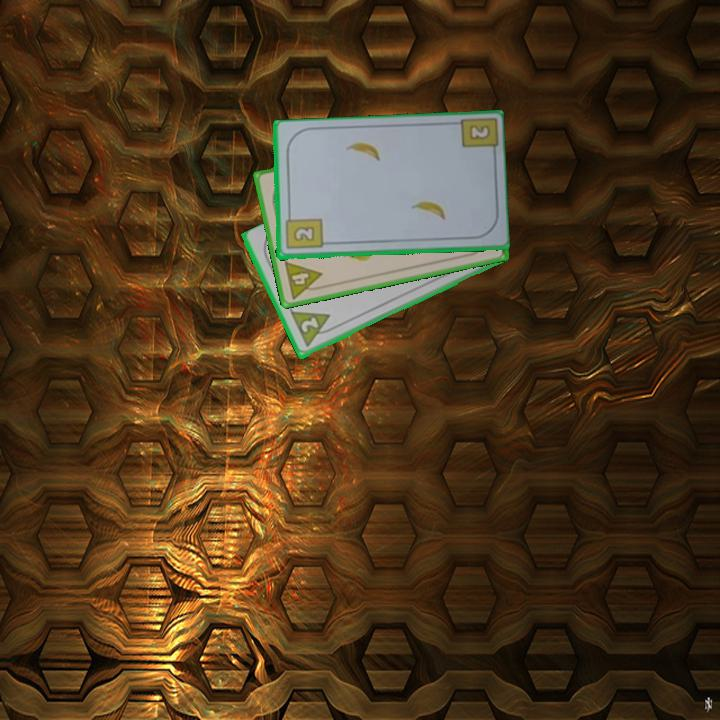2b: (282, 210, 325, 252), (465, 122, 491, 143)
2p: (287, 308, 338, 351)
4p: (281, 258, 327, 302)
